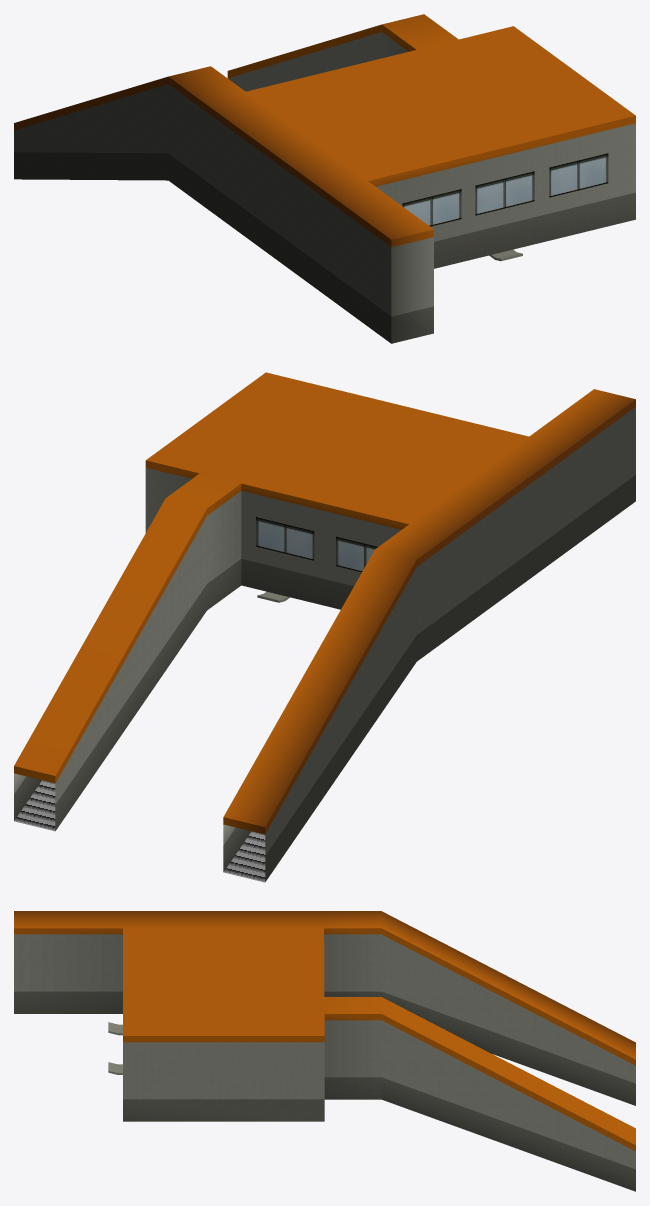
File: TOHUKUJI_ST_JR.glb
The picture shows the model from 3 angles, top to bottom: view 1: azimuth 30°, elevation 25°; view 2: azimuth 150°, elevation 25°; view 3: azimuth 270°, elevation 25°; orthographic projection. The views are drawn at different scales.
Parts seen in each view (by area): view 1: obj1; view 2: obj1; view 3: obj1.
Boxes of the visible parts, x1,y1,x2,y2 form: obj1: (14,14,635,343); obj1: (14,372,635,882); obj1: (14,911,635,1191).
Size of the model in its own units: 40.68 by 27.01 by 85.6.
Materials: 5 (5 with a texture image).
